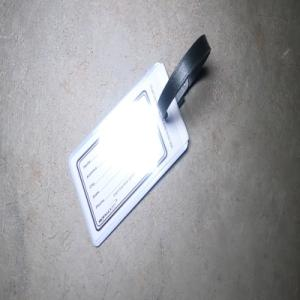LuggageTag: (66, 32, 212, 249)
